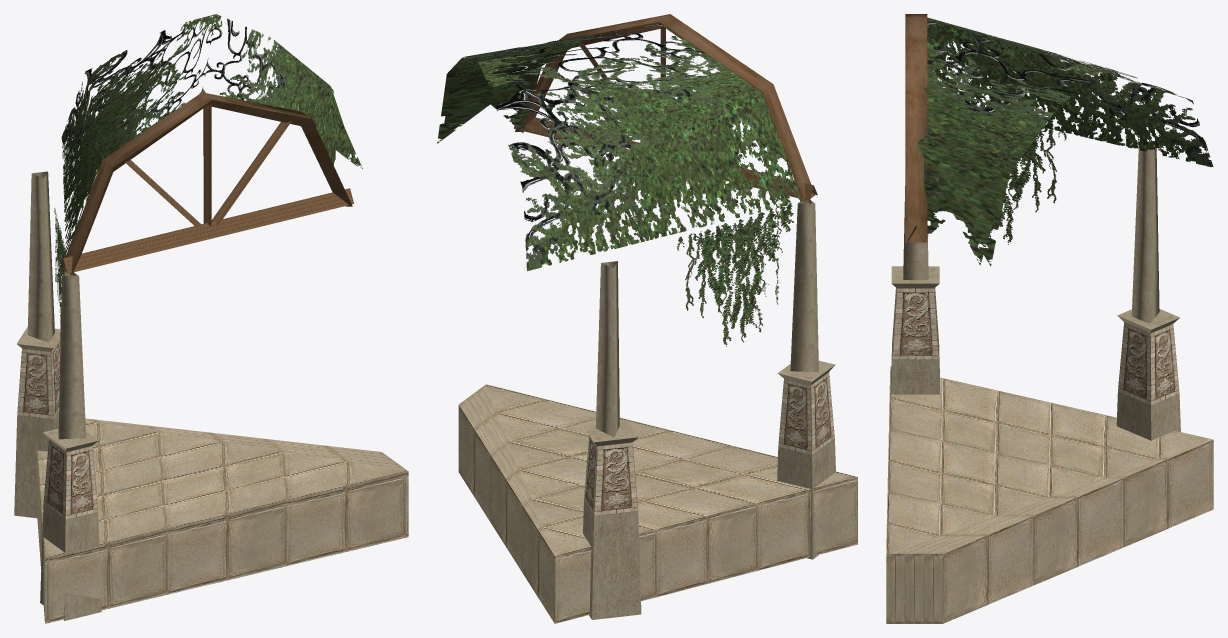
Rendered from thm_nboo_imprv_arbor_corner_45_s01_l1.fbx.
3 views of the same model, side by side, from view 1: azimuth 30°, elevation 25°; view 2: azimuth 150°, elevation 25°; view 3: azimuth 270°, elevation 25° (orthographic). The views are drawn at different scales.
Parts seen in each view (by area): view 1: mesh_node; view 2: mesh_node; view 3: mesh_node.
Boxes of the visible parts, x1,y1,x2,y2 form: mesh_node: [14, 14, 408, 623]; mesh_node: [437, 14, 857, 623]; mesh_node: [886, 14, 1213, 623].
Bounding box in the file's own units: 4.65 × 5.86 × 3.42.
Materials: 6 (6 with a texture image).
